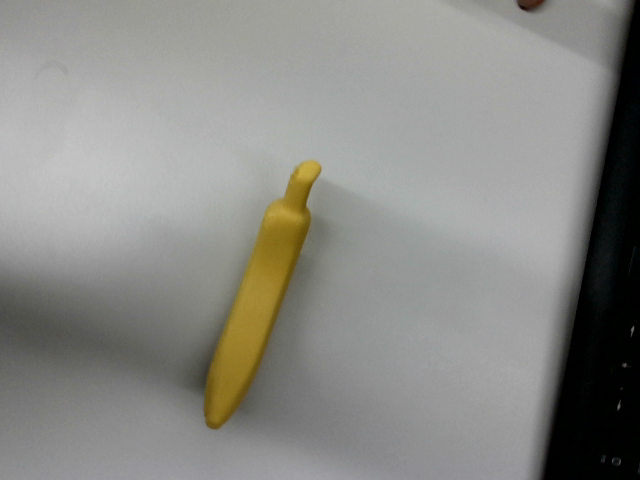banana: (190, 151, 330, 435)
